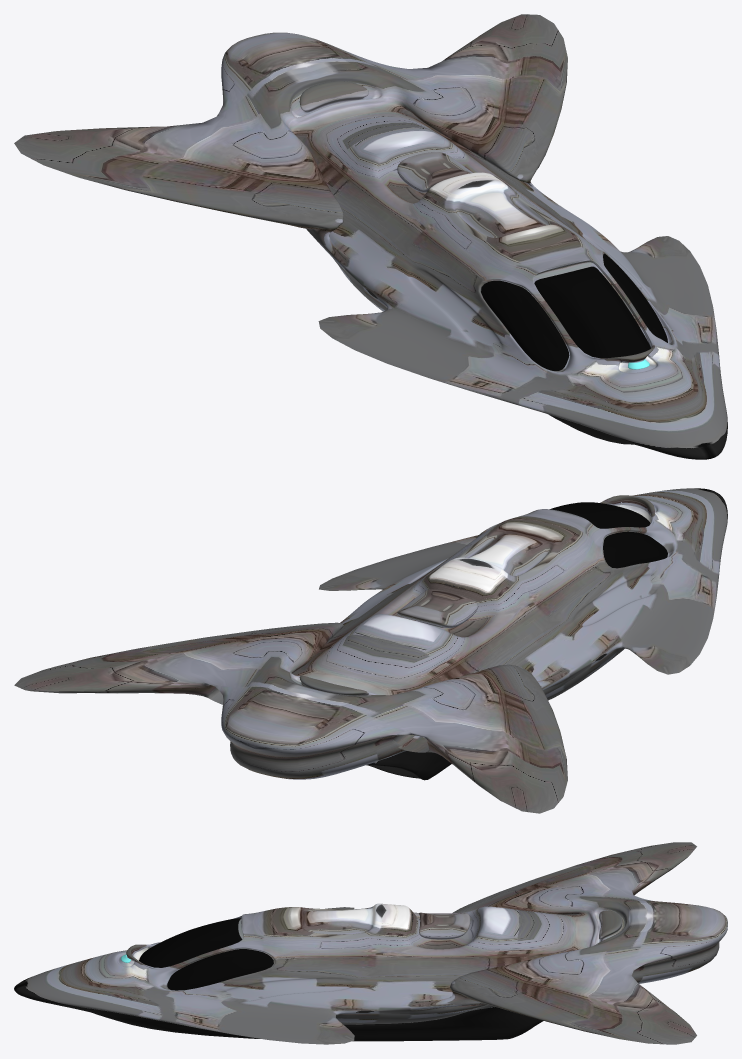
The model's file is naveEspacial.obj.
3 views of the same model, one above another, from view 1: azimuth 30°, elevation 25°; view 2: azimuth 150°, elevation 25°; view 3: azimuth 270°, elevation 25° (orthographic). The views are drawn at different scales.
Parts seen in each view (by area): view 1: body_mesh01_1, Form29__1; view 2: body_mesh01_1, Form29__1; view 3: body_mesh01_1, Form29__1.
Part boxes in pixels (x1,y1,x2,y2): body_mesh01_1: (14, 14, 727, 459); Form29__1: (481, 253, 667, 370); body_mesh01_1: (14, 488, 727, 813); Form29__1: (550, 502, 667, 568); body_mesh01_1: (14, 842, 727, 1044); Form29__1: (139, 918, 273, 990).
Bounding box in the file's own units: 505 × 140 × 752.
5 materials, 2 textured.
